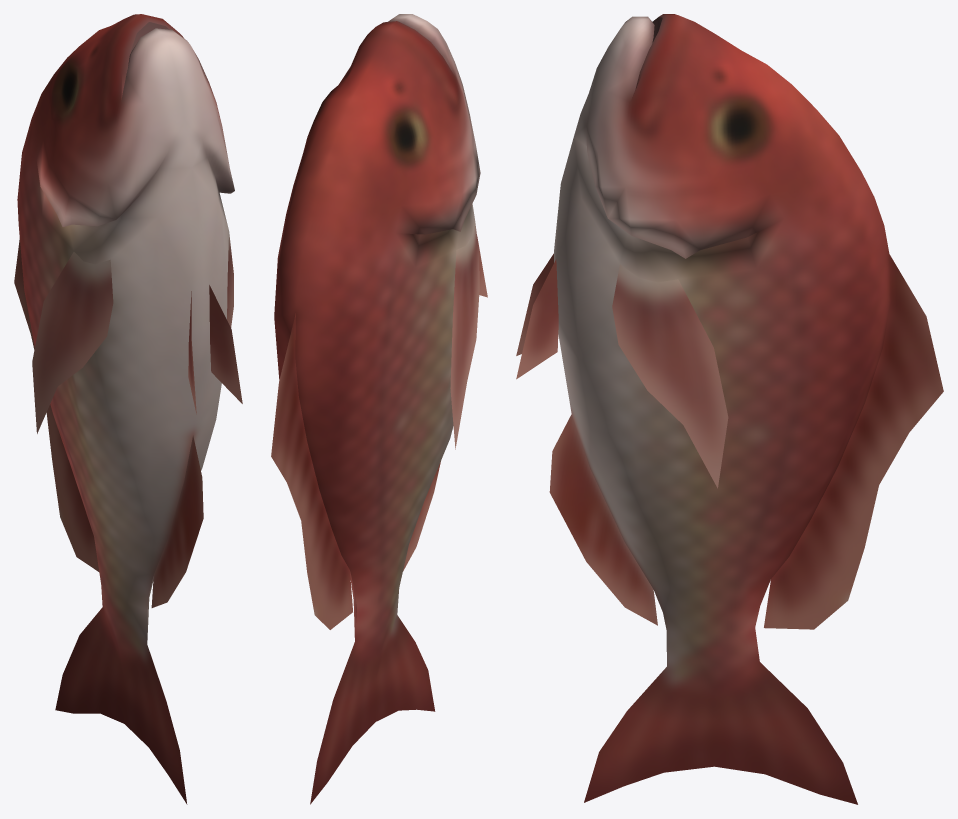
The model's file is red-snapper.glb.
The picture shows the model from 3 angles, left to right: view 1: azimuth 30°, elevation 25°; view 2: azimuth 150°, elevation 25°; view 3: azimuth 270°, elevation 25°; orthographic projection. The views are drawn at different scales.
Visible parts, largest first — view 1: FishTai__mTai; view 2: FishTai__mTai; view 3: FishTai__mTai.
Boxes of the visible parts, <box> form: FishTai__mTai: <box>14,14,242,804</box>; FishTai__mTai: <box>271,14,487,804</box>; FishTai__mTai: <box>516,14,943,804</box>.
Bounding box in the file's own units: 0.2094 × 0.8857 × 0.4347.
1 material, 1 textured.
